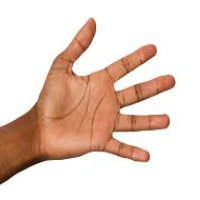ring: (114, 113, 170, 133)
